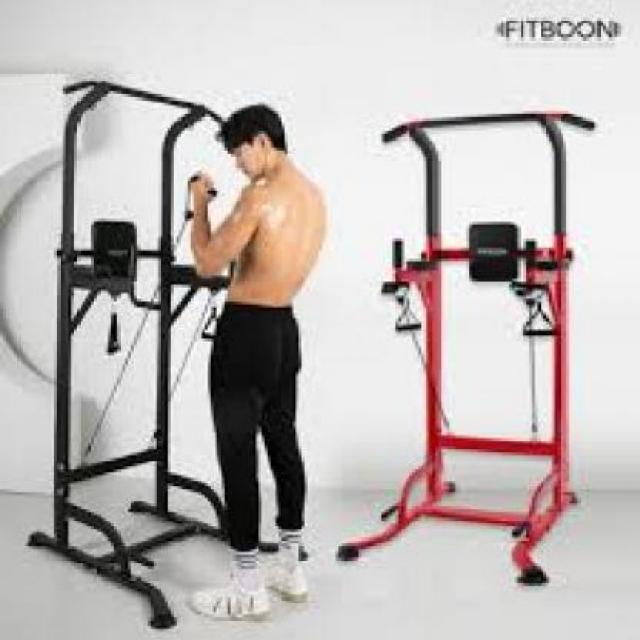chinning dipping: (28, 78, 309, 630), (335, 109, 597, 588)
